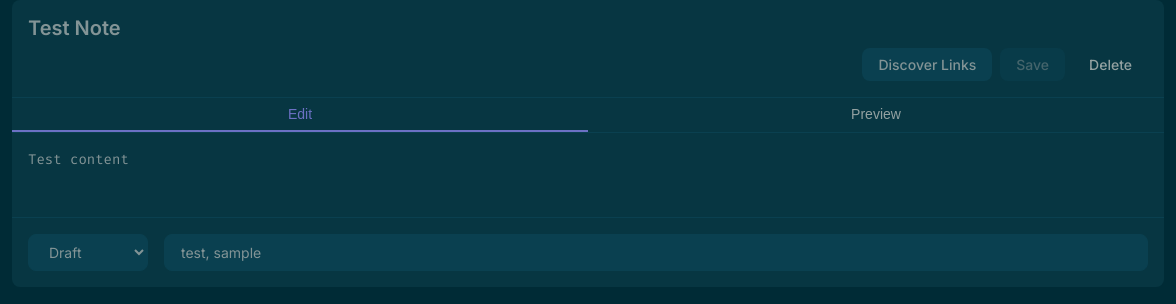
Test: NoteEditor › Mode Switching › switches to preview mode when preview tab is clicked
Click the button with class "tab-btn" showing "Preview" at (876, 115), box [588,98,1164,132]
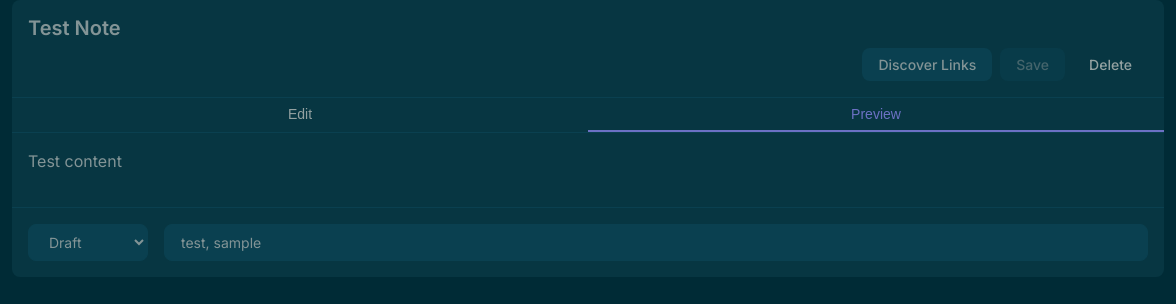
Check: the element with class "editor-preview" is shown, box [28,151,122,171]
